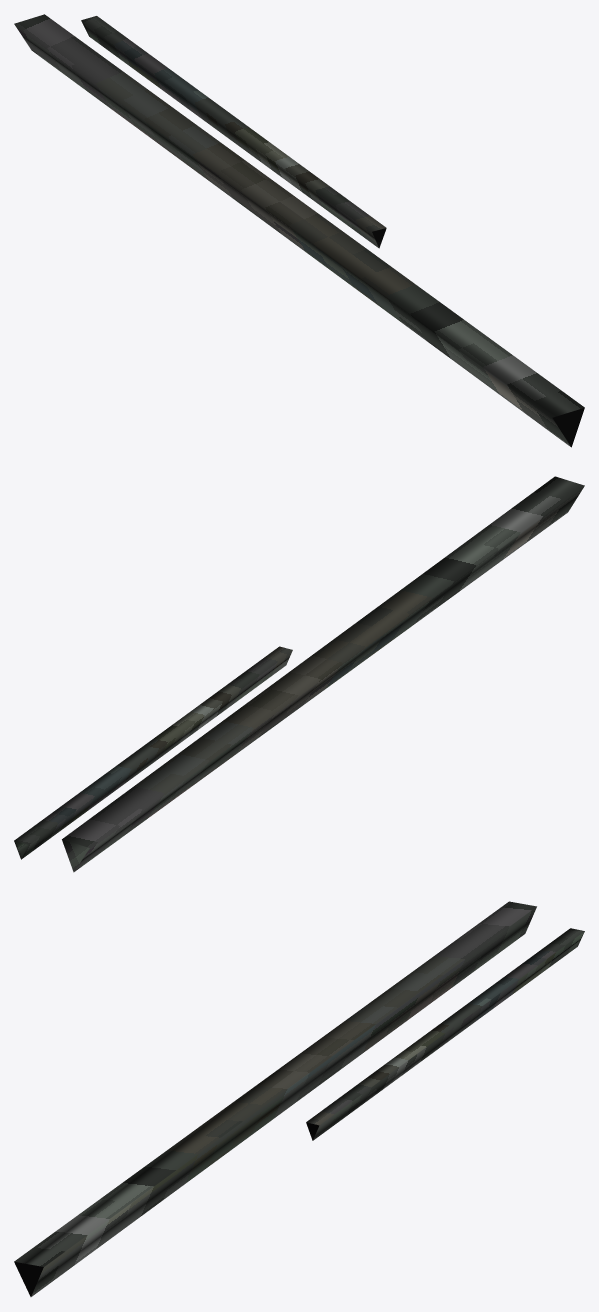
Rendered from bwing_weapon2r_s01_l3.fbx.
3 views of the same model, one above another, from view 1: azimuth 30°, elevation 25°; view 2: azimuth 150°, elevation 25°; view 3: azimuth 330°, elevation 25° (orthographic). The views are drawn at different scales.
Visible parts, largest first — view 1: mesh_node; view 2: mesh_node; view 3: mesh_node.
Part boxes in pixels (x1,y1,x2,y2): mesh_node: [14, 14, 584, 447]; mesh_node: [14, 476, 584, 872]; mesh_node: [14, 901, 584, 1296].
Bounding box in the file's own units: 0.2239 × 0.0925 × 2.49.
1 material, 1 textured.
